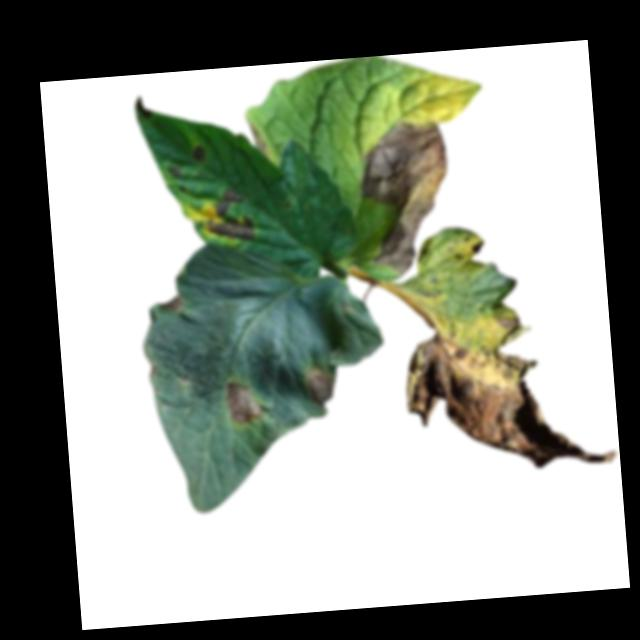Early_blight: (400, 312, 619, 482), (354, 118, 456, 279), (203, 186, 258, 246), (223, 378, 264, 427), (302, 366, 336, 406), (249, 122, 266, 160), (158, 293, 187, 315), (135, 95, 151, 121), (189, 145, 208, 164), (469, 240, 486, 260), (166, 165, 183, 182)
